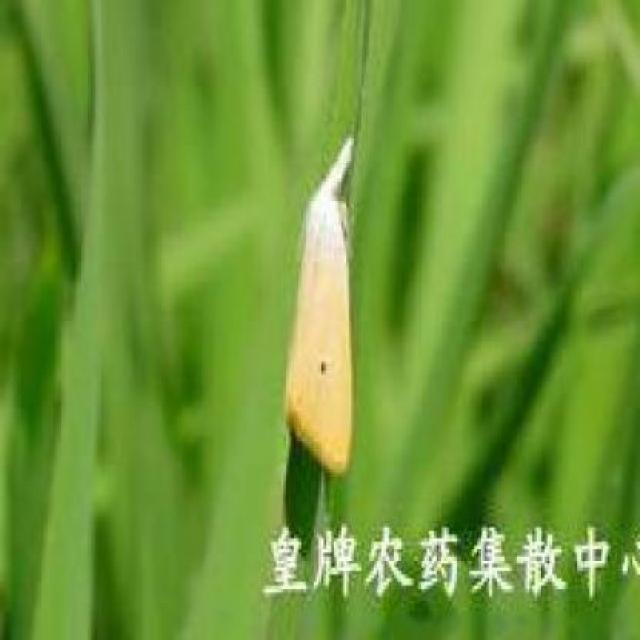stem-borer: (282, 132, 360, 485)
